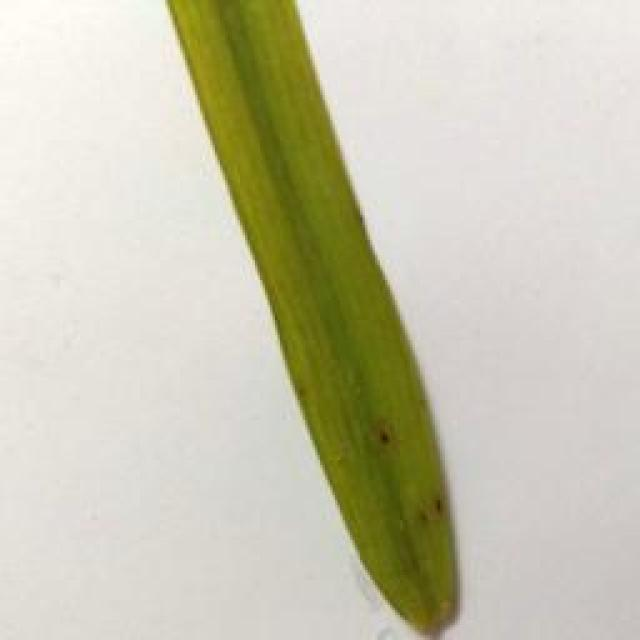Brown_Spot: (426, 482, 456, 522), (404, 498, 434, 537), (371, 424, 402, 451)
